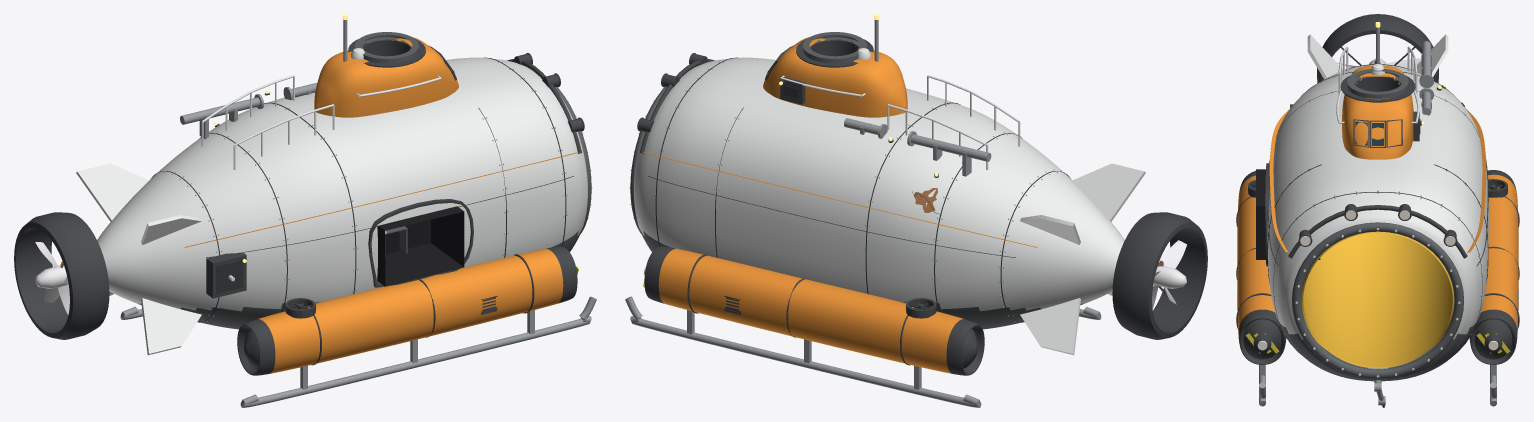
3 renders of one model, left to right at view 1: azimuth 30°, elevation 25°; view 2: azimuth 150°, elevation 25°; view 3: azimuth 270°, elevation 25°, orthographic. The views are drawn at different scales.
Visible parts, largest first — view 1: SM_Sub2; view 2: SM_Sub2; view 3: SM_Sub2.
Part boxes in pixels (<box>): SM_Sub2: <box>14,14,596,407</box>; SM_Sub2: <box>625,14,1207,407</box>; SM_Sub2: <box>1236,14,1519,407</box>.
Bounding box in the file's own units: 7.13 × 4.06 × 3.49.
